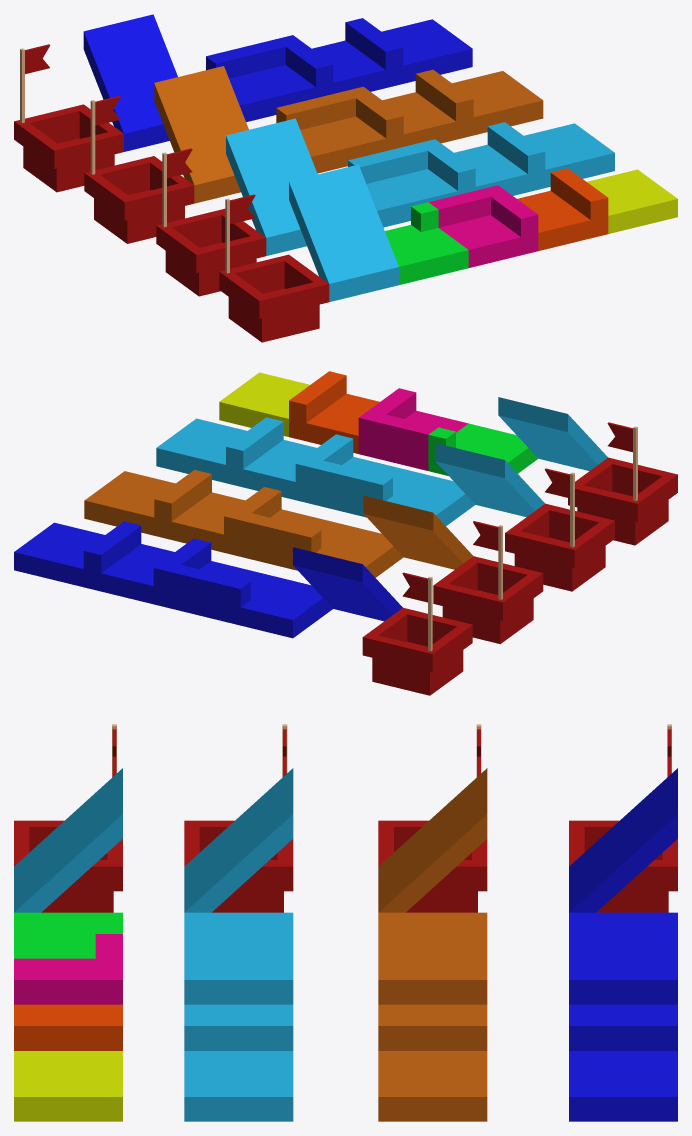
File: block berwarna.gltf
3 views of the same model, one above another, from view 1: azimuth 30°, elevation 25°; view 2: azimuth 150°, elevation 25°; view 3: azimuth 270°, elevation 25° (orthographic). The views are drawn at different scales.
Parts seen in each view (by area): view 1: floor-ramp.002, floor-ramp, floor-ramp.003, target-colonly.002, floor-ramp.001, target, target-colonly.003, target-colonly.001, floor-corner-borders.002, floor-corner-borders, floor-corner-borders.003, floor-corner-borders.001 (+12 smaller); view 2: target-colonly.003, target-colonly.001, target, target-colonly.002, floor-corner.003, floor-corner-borders.003, floor-corner-borders.002, floor-corner-borders.001, floor-corner-borders, floor-border.003, floor-border.001, floor-border (+12 smaller); view 3: floor, floor.001, floor.002, floor.003, floor-ramp.001, floor-ramp, floor-ramp.002, floor-ramp.003, floor-corner-borders, floor-corner-borders.001, floor-corner-borders.002, floor-corner-borders.003 (+12 smaller).
Boxes of the visible parts, x1,y1,x2,y2 form: floor-ramp.002: [289, 164, 398, 301]; floor-ramp: [154, 66, 248, 203]; floor-ramp.003: [83, 14, 177, 151]; target-colonly.002: [219, 194, 329, 342]; floor-ramp.001: [226, 118, 317, 255]; target: [84, 96, 194, 243]; target-colonly.003: [14, 44, 123, 192]; target-colonly.001: [156, 148, 266, 296]; floor-corner-borders.002: [428, 185, 538, 267]; floor-corner-borders: [294, 86, 403, 169]; floor-corner-borders.003: [223, 35, 333, 117]; floor-corner-borders.001: [366, 139, 475, 221]; target-colonly.003: [362, 572, 472, 695]; target-colonly.001: [505, 468, 614, 591]; target: [433, 521, 543, 644]; target-colonly.002: [568, 422, 677, 545]; floor-corner.003: [223, 573, 332, 638]; floor-corner-borders.003: [153, 538, 262, 621]; floor-corner-borders.002: [358, 388, 468, 470]; floor-corner-borders.001: [295, 434, 405, 516]; floor-corner-borders: [224, 487, 333, 569]; floor-border.003: [83, 521, 174, 604]; floor-border.001: [226, 417, 316, 499]; floor-border: [154, 470, 245, 552]; floor: [378, 1051, 487, 1121]; floor.001: [184, 1051, 293, 1121]; floor.002: [14, 1051, 122, 1121]; floor.003: [569, 1051, 677, 1121]; floor-ramp.001: [184, 768, 293, 912]; floor-ramp: [378, 768, 487, 912]; floor-ramp.002: [14, 768, 122, 912]; floor-ramp.003: [569, 768, 677, 912]; floor-corner-borders: [378, 934, 487, 1004]; floor-corner-borders.001: [184, 934, 293, 1004]; floor-corner-borders.002: [14, 934, 122, 1004]; floor-corner-borders.003: [569, 934, 677, 1004].
Size of what is drawn, in the model's own units: 24 by 6.5 by 24.38.
Materials: 24 (4 with a texture image).
